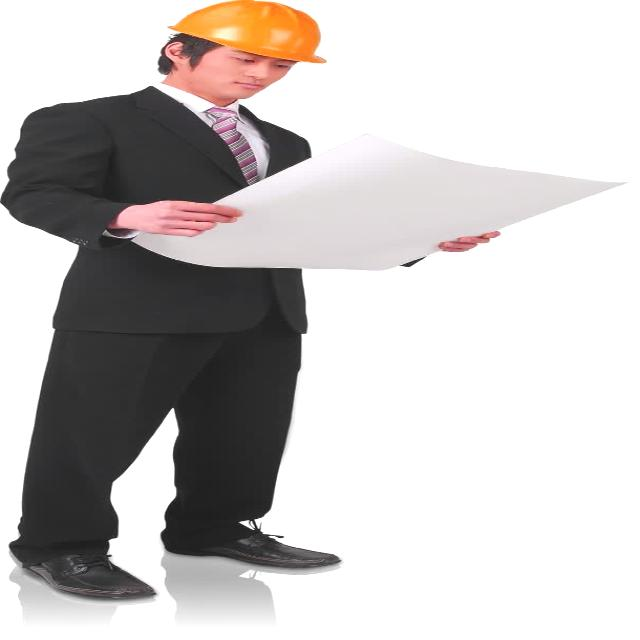face_nomask: (198, 48, 308, 95)
hand_noglove: (120, 192, 250, 246)
head_helmet: (159, 1, 340, 65)
person: (5, 1, 359, 602)
shoes: (8, 535, 162, 604), (170, 516, 359, 572)
